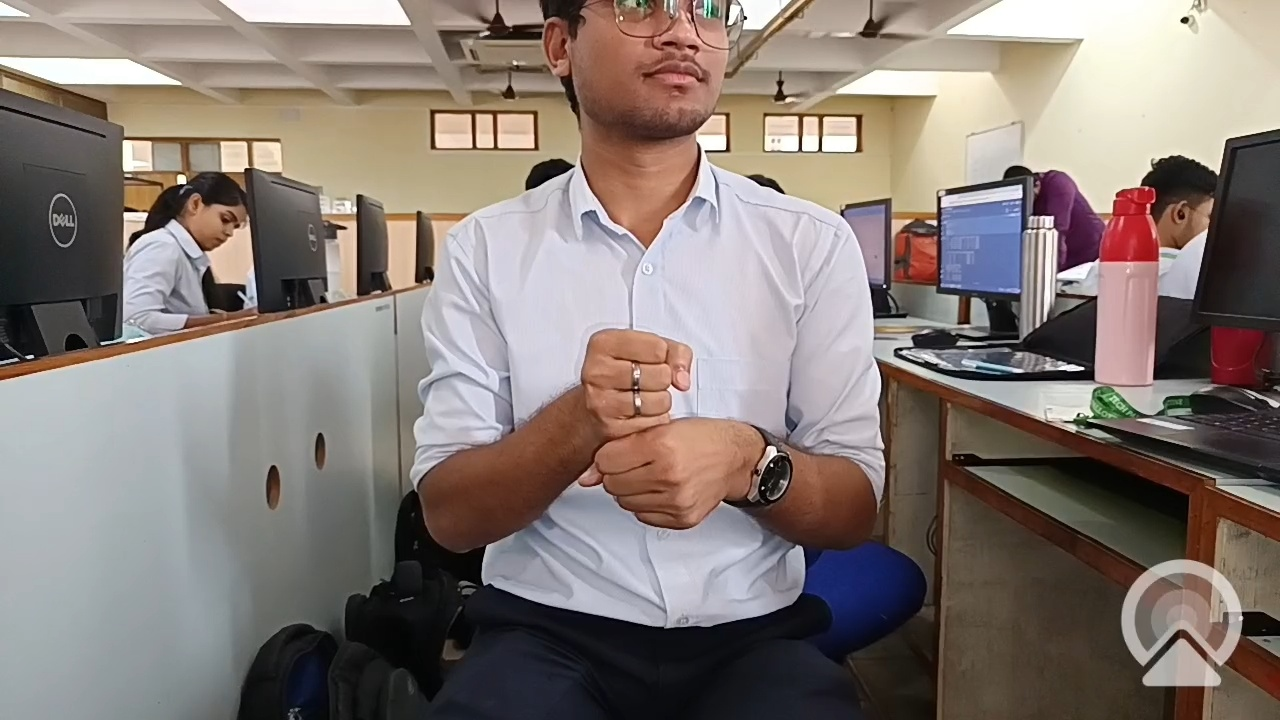G: (528, 288, 809, 556)
